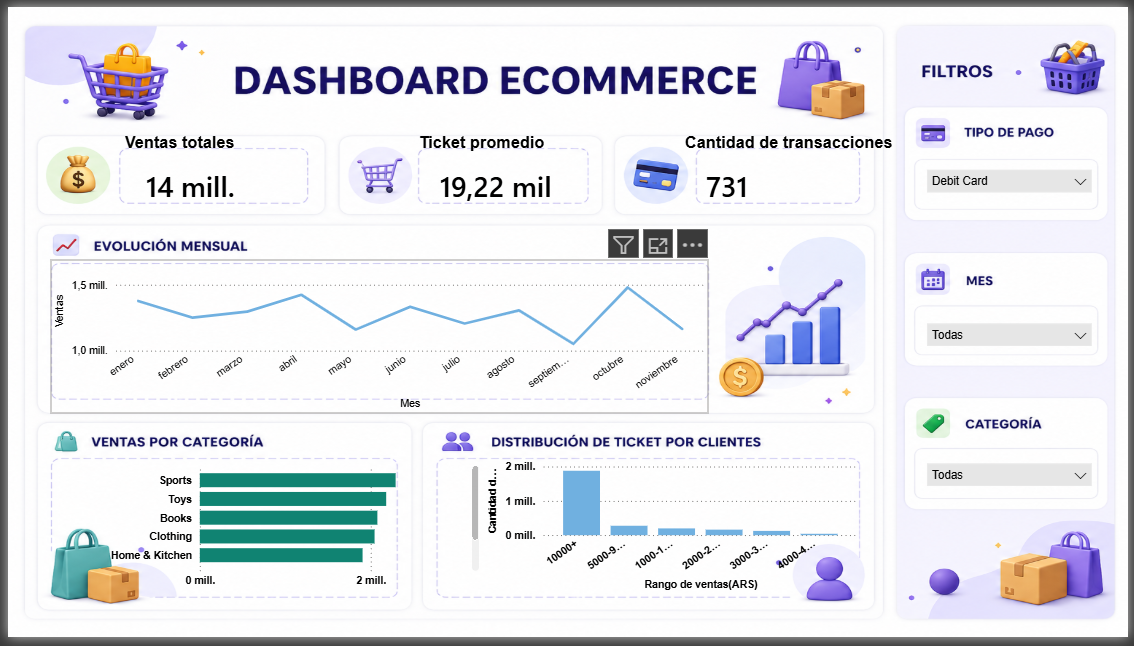

This screenshot's page, from the dashboard's own definition file:
{"tool":"powerbi","page":{"name":"Dashboard","canvas":[1280,720],"ordinal":0},"visuals":[{"type":"barChart","title":"Ventas por categoria","fields":{"Category":["ecommerce_dataset_clean.Category"],"Y":["Sum(ecommerce_dataset_clean.Final_Price)"]},"box":[112,512,432,160],"z":0},{"type":"lineChart","title":"Evolucion mensual de ventas","fields":{"Category":["ecommerce_dataset_clean.Purchase_Date.Variación.Jerarquía de fechas.Mes"],"Y":["Sum(ecommerce_dataset_clean.Final_Price)"]},"box":[48,288,752,176],"z":1000},{"type":"slicer","fields":{"Values":["ecommerce_dataset_clean.Purchase_Date.Variación.Jerarquía de fechas.Mes"]},"box":[1040,352,208,48],"z":2000},{"type":"slicer","fields":{"Values":["ecommerce_dataset_clean.Category"]},"box":[1040,512,208,48],"z":3000},{"type":"slicer","fields":{"Values":["ecommerce_dataset_clean.Payment_Method"]},"box":[1040,176,208,48],"z":4000},{"type":"cardVisual","title":"Ventas totales","fields":{"Data":["Sum(ecommerce_dataset_clean.Final_Price)"]},"box":[128,144,208,96],"z":5000},{"type":"cardVisual","title":"Ticket promedio","fields":{"Data":["Avg(ecommerce_dataset_clean.Final_Price)"]},"box":[464,144,224,96],"z":6000},{"type":"cardVisual","title":"Cantidad de transacciones","fields":{"Data":["CountNonNull(ecommerce_dataset_clean.Final_Price)"]},"box":[768,144,272,96],"z":7000},{"type":"columnChart","fields":{"Category":["ecommerce_dataset_clean.RangoVentas"],"Y":["Sum(ecommerce_dataset_clean.Frecuencia)"]},"box":[544,512,432,160],"z":8000}]}

Visuals, with their boxes in screenshot pixels (x1, y1, x2, y2), scaled from the page's 1280x720 canvas onto the 1134x646 screenshot:
"Ventas por categoria" barChart: 99,459,482,603
"Evolucion mensual de ventas" lineChart: 43,258,709,416
slicer - ecommerce_dataset_clean.Purchase_Date.Variación.Jerarquía de fechas.Mes: 921,316,1106,359
slicer - ecommerce_dataset_clean.Category: 921,459,1106,502
slicer - ecommerce_dataset_clean.Payment_Method: 921,158,1106,201
"Ventas totales" cardVisual: 113,129,298,215
"Ticket promedio" cardVisual: 411,129,610,215
"Cantidad de transacciones" cardVisual: 680,129,921,215
columnChart - ecommerce_dataset_clean.RangoVentas x Sum(ecommerce_dataset_clean.Frecuencia): 482,459,865,603
